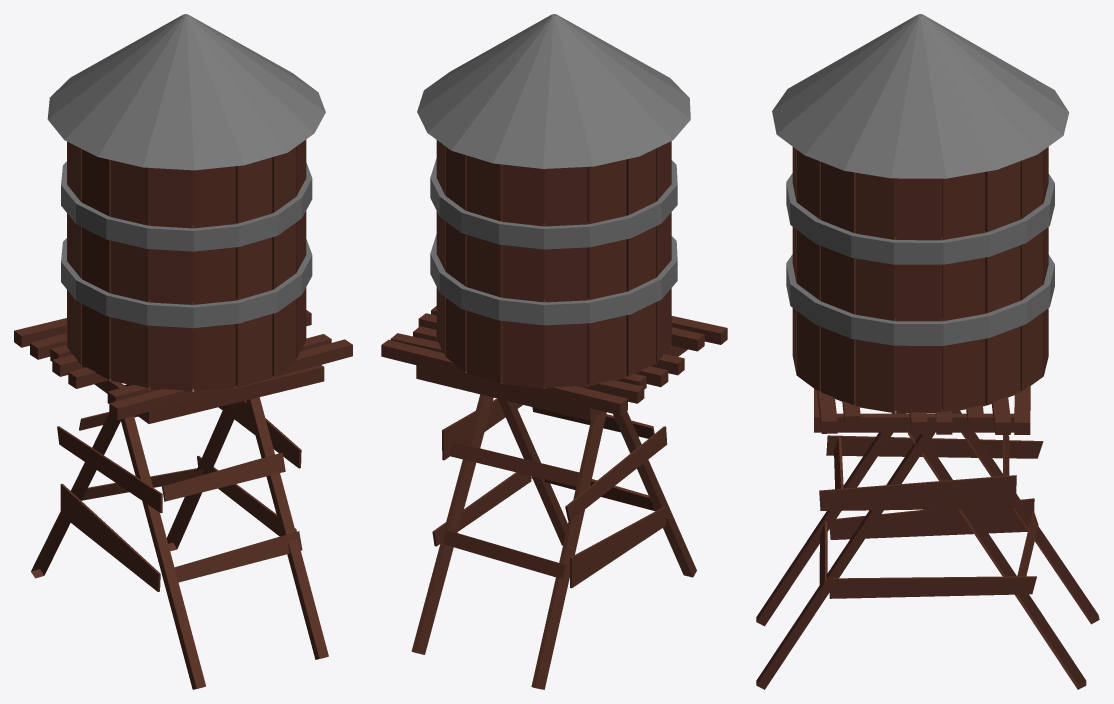
The model's file is watertower.fbx.
The picture shows the model from 3 angles, left to right: view 1: azimuth 30°, elevation 25°; view 2: azimuth 150°, elevation 25°; view 3: azimuth 270°, elevation 25°; orthographic projection. The views are drawn at different scales.
Visible parts, largest first — view 1: Water Tower; view 2: Water Tower; view 3: Water Tower.
Part boxes in pixels (x1,y1,x2,y2): Water Tower: [14, 14, 352, 689]; Water Tower: [381, 14, 727, 689]; Water Tower: [756, 14, 1099, 689].
Size of the model in its own units: 419 by 986 by 479.
